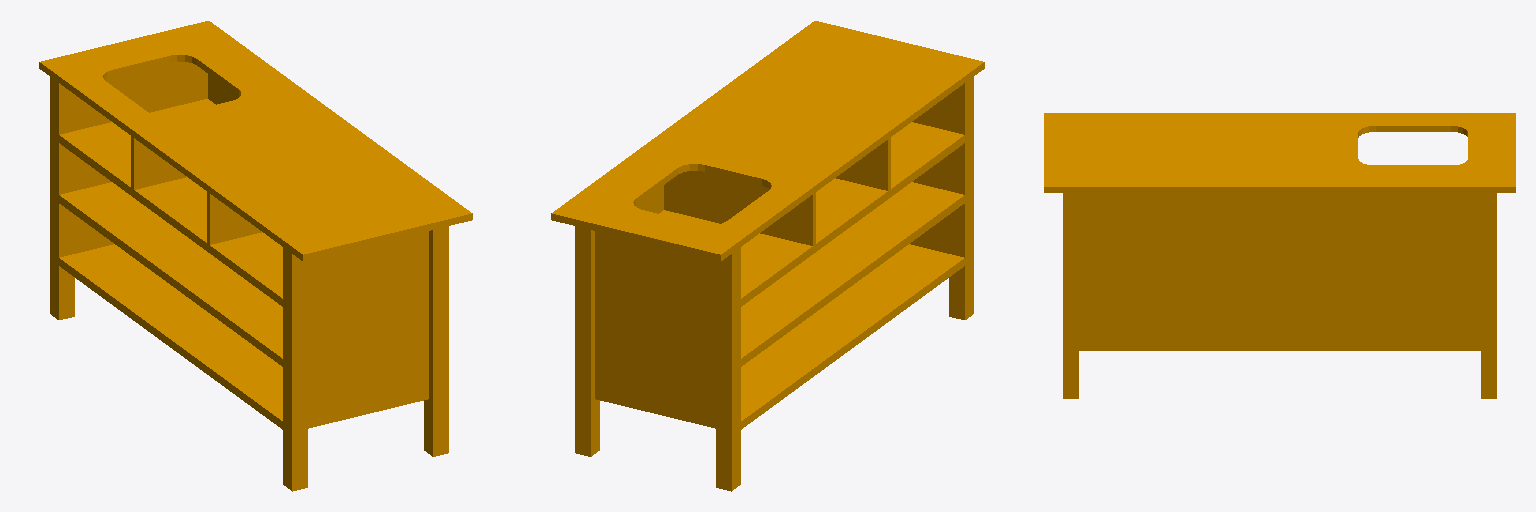
URDF robot description (counter):
<?xml version="1.0"?>
<robot name="counter">
  <link
    name="kitchen_counter">
    <inertial>
      <origin
        xyz="0 0 0.44"
        rpy="0 0 0" />
      <mass
        value="100" />
      <inertia
        ixx="40"
        ixy="0"
        ixz="0"
        iyy="11"
        iyz="0"
        izz="37" />
    </inertial>
    <visual>
      <origin
        xyz="0 0 0"
        rpy="0 0 0" />
      <geometry>
        <mesh
          filename="package://hlpr_gazebo/objects/meshes/kitchen_counter_orig0.stl" />
      </geometry>
      <!--material
        name="">
        <color
          rgba="0.792156862745098 0.819607843137255 0.933333333333333 1" />
      </material-->
    </visual>
    <collision>
      <origin
        xyz="0 0 0"
        rpy="0 0 0" />
      <geometry>
        <mesh
          filename="package://hlpr_gazebo/objects/meshes/kitchen_counter_orig0.stl" />
      </geometry>
    </collision>
  </link>
  <gazebo>
    <static>true</static>
  </gazebo>
  <gazebo reference="kitchen_counter">
    <material>Gazebo/WoodPallet</material>
  </gazebo>
</robot>

--- What the picture shows (computed from the rendered views, not written in the file) ---
The picture shows the robot from 3 angles, left to right: view 1: azimuth 30°, elevation 25°; view 2: azimuth 150°, elevation 25°; view 3: azimuth 270°, elevation 25°; orthographic projection.
Robot: counter — 1 links, 0 joints (none); root link kitchen_counter; default pose: all joints at 0.
Visible links, largest first — view 1: kitchen_counter; view 2: kitchen_counter; view 3: kitchen_counter.
Link boxes in pixels (x1,y1,x2,y2): kitchen_counter: [39, 21, 472, 491]; kitchen_counter: [551, 21, 984, 491]; kitchen_counter: [1044, 113, 1515, 398].
Bounding box of the posed robot: 0.65 × 1.75 × 0.895 m (x, y, z).
Meshes: 1 distinct files referenced, 1 mesh visuals loaded (1 binary STL).